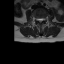CCS_normal: (39, 16, 41, 24)
LFS_normal: (43, 16, 46, 21)
LLS_normal: (41, 16, 43, 22)
RFS_normal: (35, 16, 38, 22)
RLS_normal: (38, 16, 39, 23)
